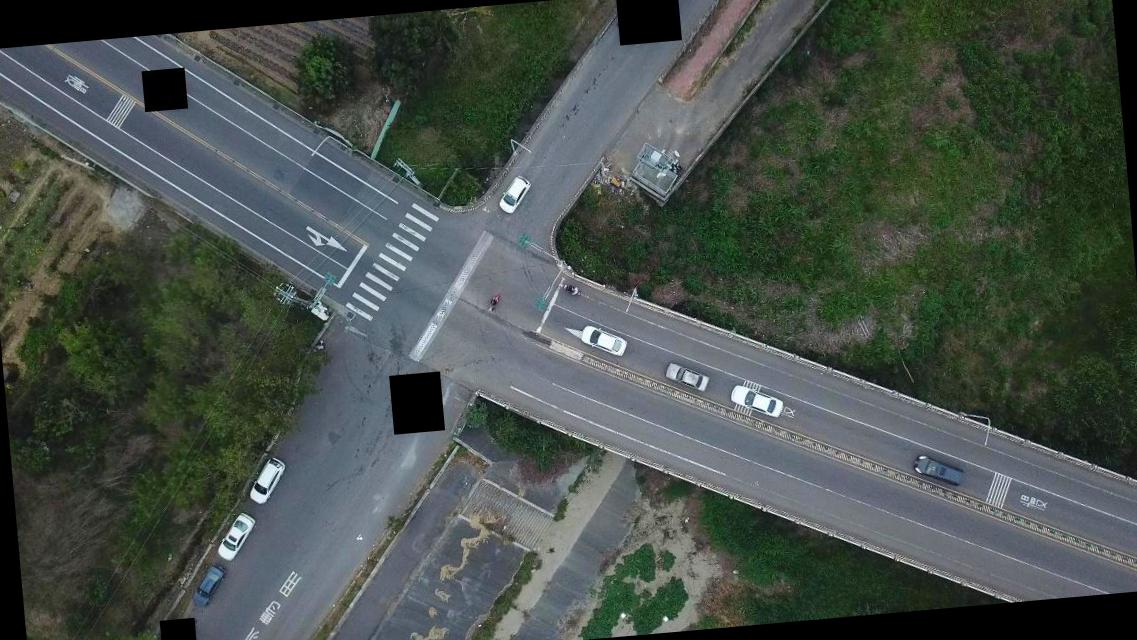vehicle: (910, 452, 966, 492), (661, 354, 711, 398), (212, 512, 256, 562), (727, 380, 783, 419), (245, 454, 286, 504), (580, 321, 629, 360), (186, 565, 228, 607), (498, 172, 532, 216)
